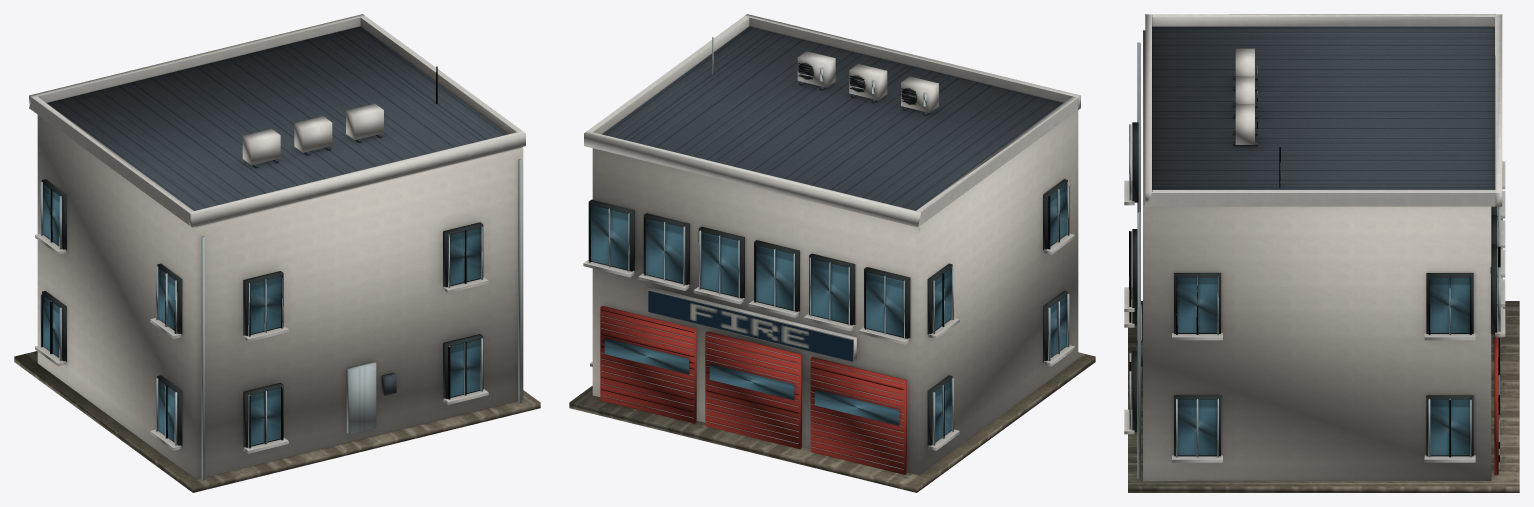
Rendered from public_007.obj.
The picture shows the model from 3 angles, left to right: view 1: azimuth 30°, elevation 25°; view 2: azimuth 150°, elevation 25°; view 3: azimuth 270°, elevation 25°; orthographic projection. The views are drawn at different scales.
Parts seen in each view (by area): view 1: public_007; view 2: public_007; view 3: public_007.
Part boxes in pixels (x1,y1,x2,y2): public_007: (14,14,540,492); public_007: (569,14,1095,492); public_007: (1124,14,1519,492).
Size of the model in its own units: 10.1 by 8.3 by 9.08.
1 material, 1 textured.
